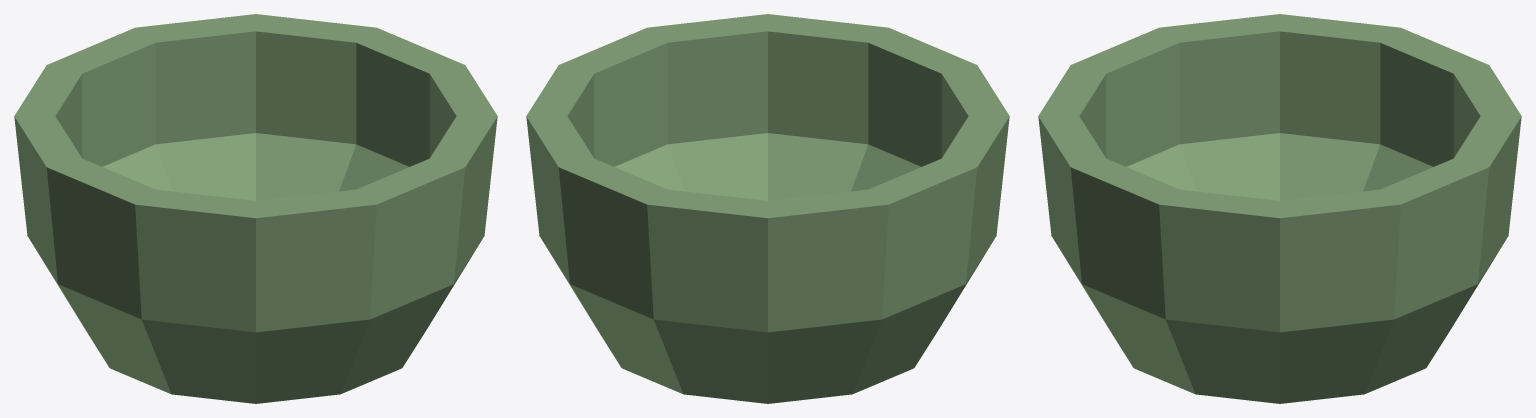
File: bowl.fbx
The picture shows the model from 3 angles, left to right: view 1: azimuth 30°, elevation 25°; view 2: azimuth 150°, elevation 25°; view 3: azimuth 270°, elevation 25°; orthographic projection.
Visible parts, largest first — view 1: Cylinder; view 2: Cylinder; view 3: Cylinder.
Part boxes in pixels (x1,y1,x2,y2): Cylinder: (14,14,497,403); Cylinder: (526,14,1009,403); Cylinder: (1038,14,1521,403).
Bounding box in the file's own units: 275 × 136 × 275.
